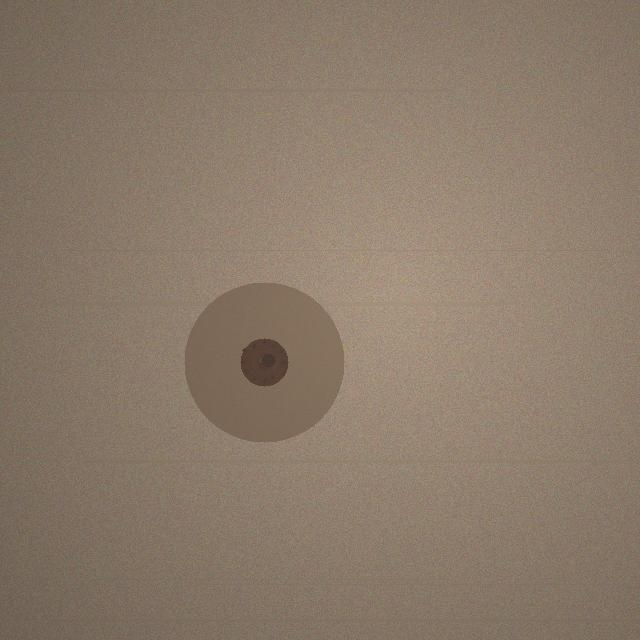cold_weld: (184, 282, 344, 442)
